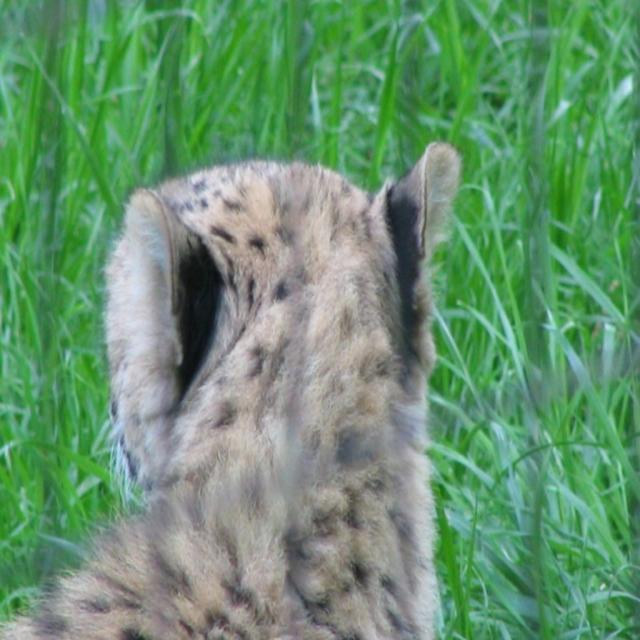Cheetah: (0, 140, 464, 640)
